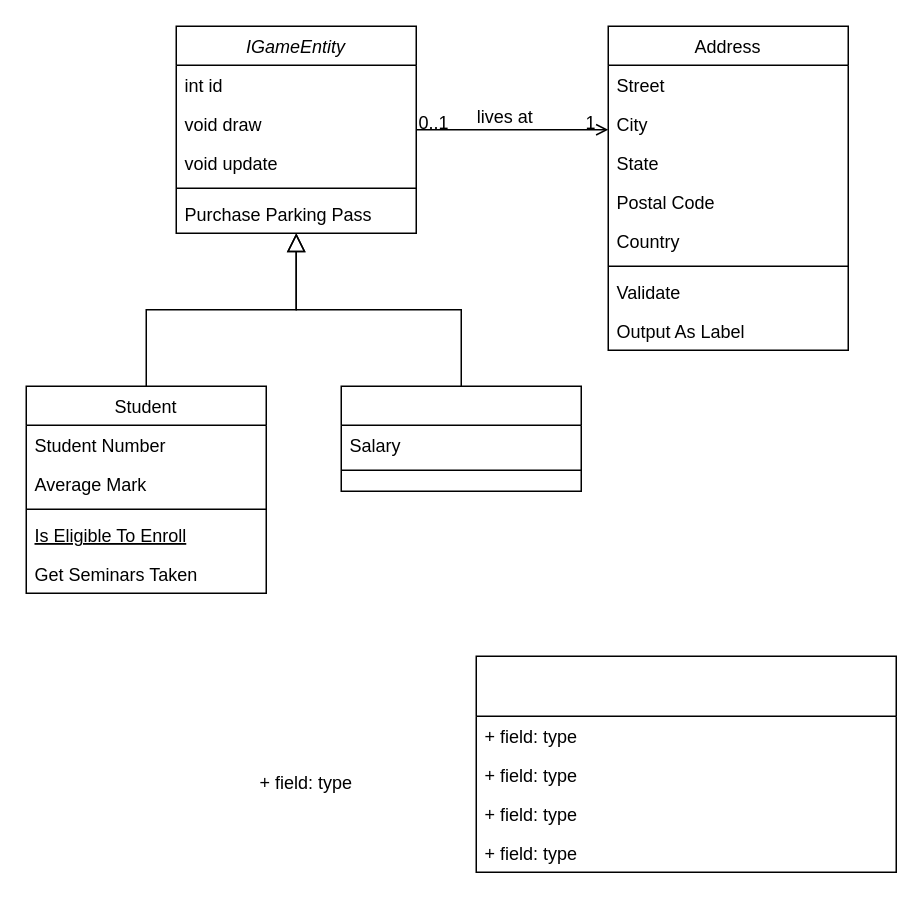
The diagram is 923 pixels wide and 903 high, and some of its shapes have lost their labels. Each missing label, with the box of its shape:
Classname: (475, 655, 896, 872)
Professor: (340, 385, 581, 491)
